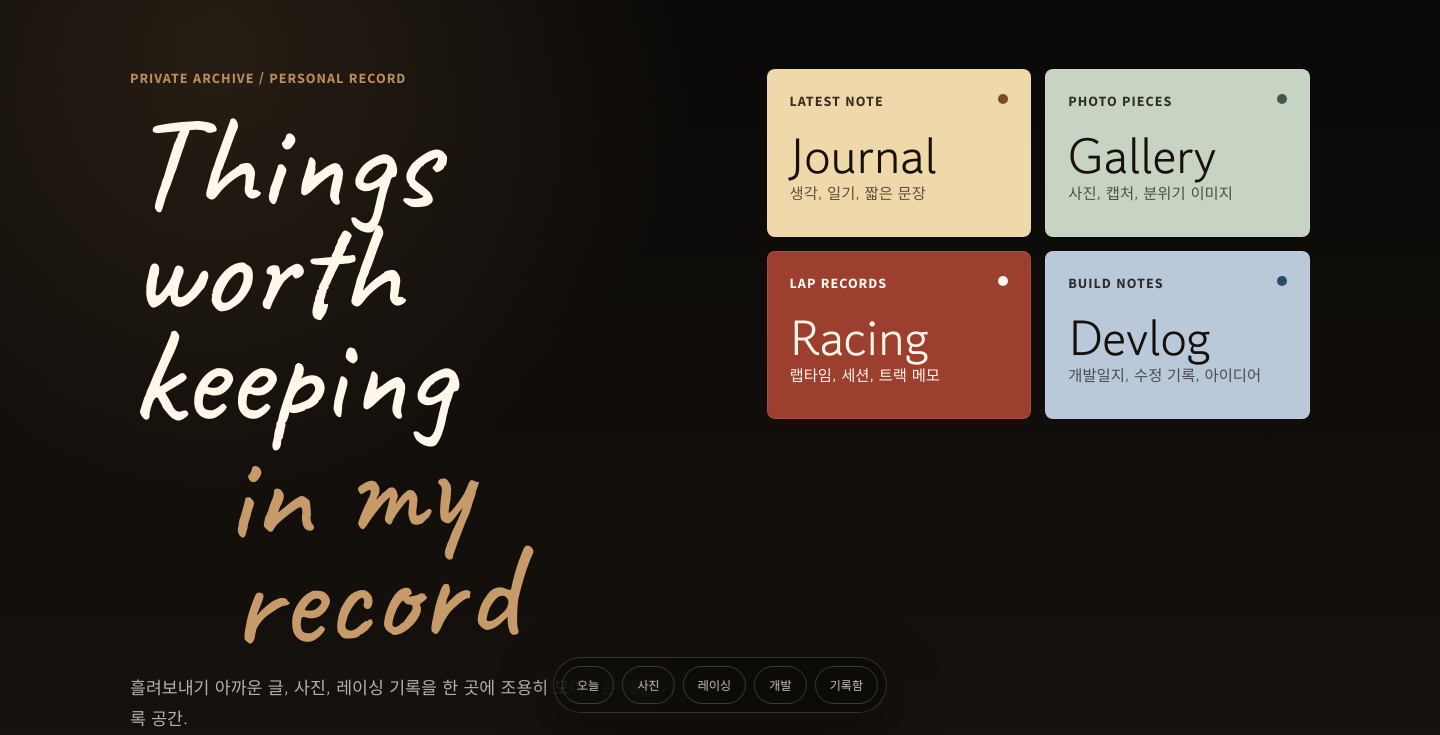
Test: Karmurs Record homepage › opens the archive as an aggregate record list from quick navigation
Step 1. Click the button "기록함" → coordinates (846, 685), box [815,666,878,704]
(page scrolled)
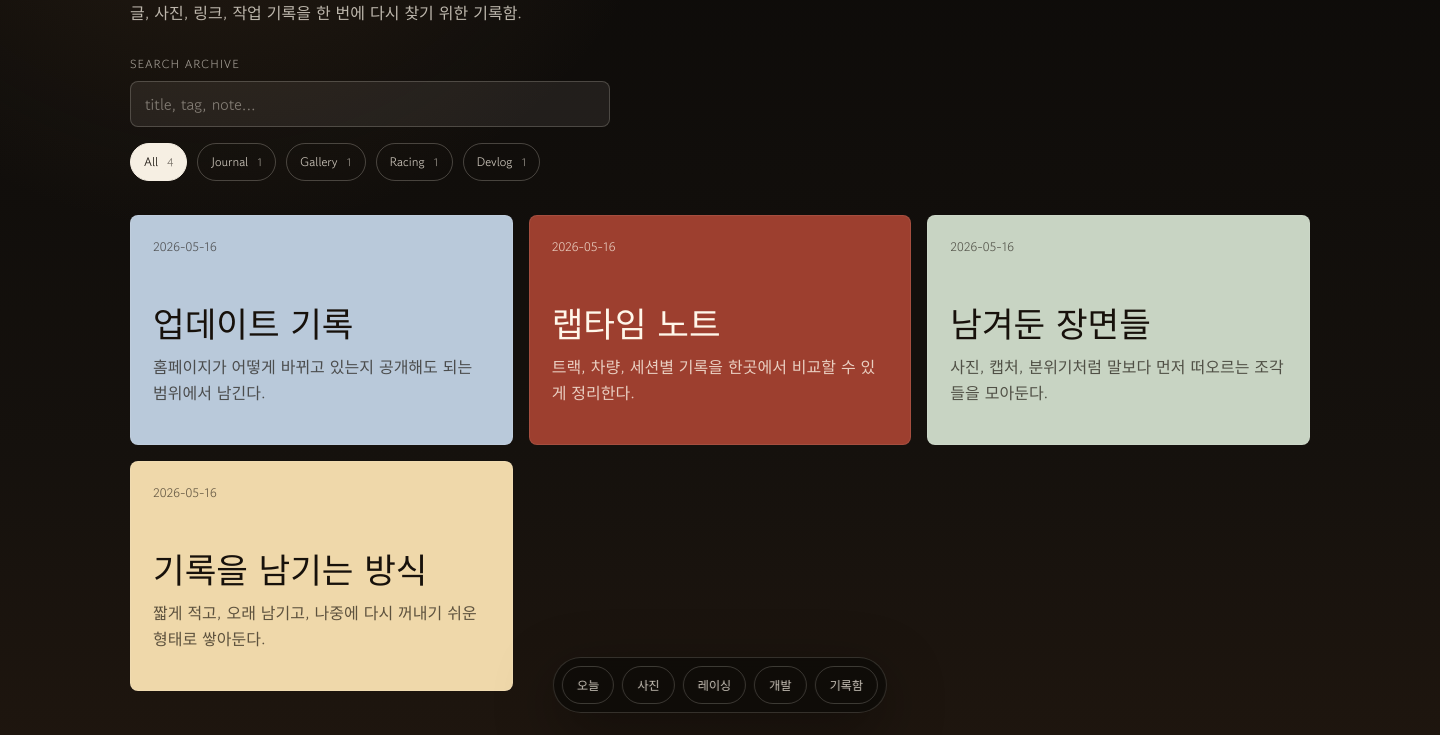
Expected: the button "2026-05-16 기록을 남기는 방식 짧게 적고, 오래 남기고, 나중에 다시 꺼내기 쉬운 형태로 쌓아둔다." is shown, [130,461,513,691]
Expected: the button "2026-05-16 남겨둔 장면들 사진, 캡처, 분위기처럼 말보다 먼저 떠오르는 조각들을 모아둔다." is shown, [927,215,1310,445]
Expected: the button "2026-05-16 랩타임 노트 트랙, 차량, 세션별 기록을 한곳에서 비교할 수 있게 정리한다." is shown, [529,215,911,445]
